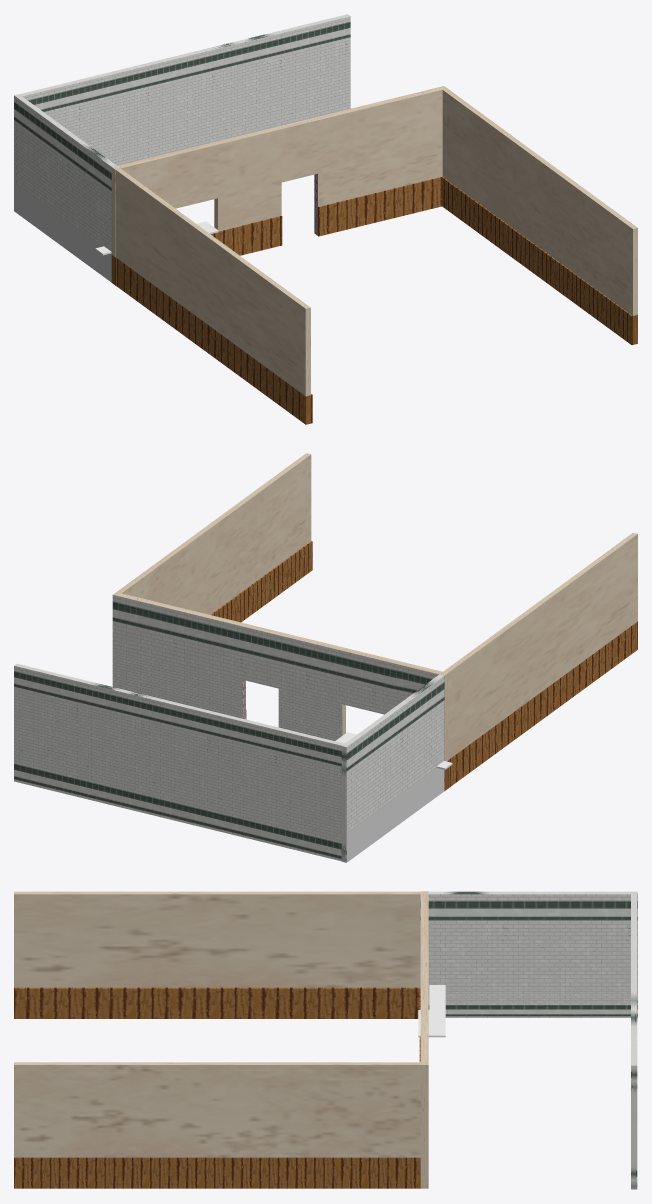
Rendered from restaurant.glb.
The picture shows the model from 3 angles, top to bottom: view 1: azimuth 30°, elevation 25°; view 2: azimuth 150°, elevation 25°; view 3: azimuth 270°, elevation 25°; orthographic projection. The views are drawn at different scales.
Visible parts, largest first — view 1: Cube.001, Cube, Cube.003, Cube.002; view 2: Cube.003, Cube.001, Cube, Cube.002; view 3: Cube.001, Cube.002, Cube, Cube.003, COunter.
Part boxes in pixels (x1,y1,x2,y2): Cube.001: (14, 94, 312, 424); Cube: (111, 86, 447, 285); Cube.003: (19, 14, 350, 165); Cube.002: (442, 88, 637, 344); Cube.003: (14, 663, 344, 861); Cube.001: (341, 533, 637, 862); Cube: (112, 593, 448, 791); Cube.002: (115, 453, 312, 622); Cube.001: (14, 891, 637, 1018); Cube.002: (14, 1062, 424, 1188); Cube: (419, 891, 428, 1188); Cube.003: (631, 892, 637, 1189); COunter: (418, 985, 445, 1037).
Bounding box in the file's own units: 10.98 × 3.55 × 16.22.
7 materials, 5 textured.
